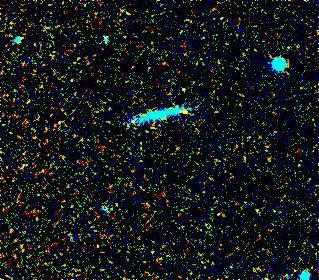star: (168, 98, 198, 128)
